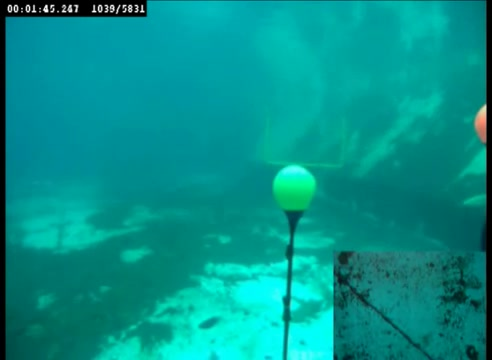buoy_green: (270, 163, 319, 227)
